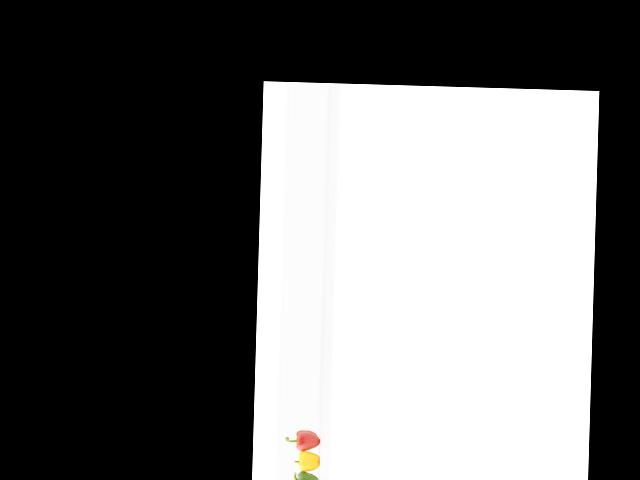bell_pepper: (282, 423, 323, 453)
